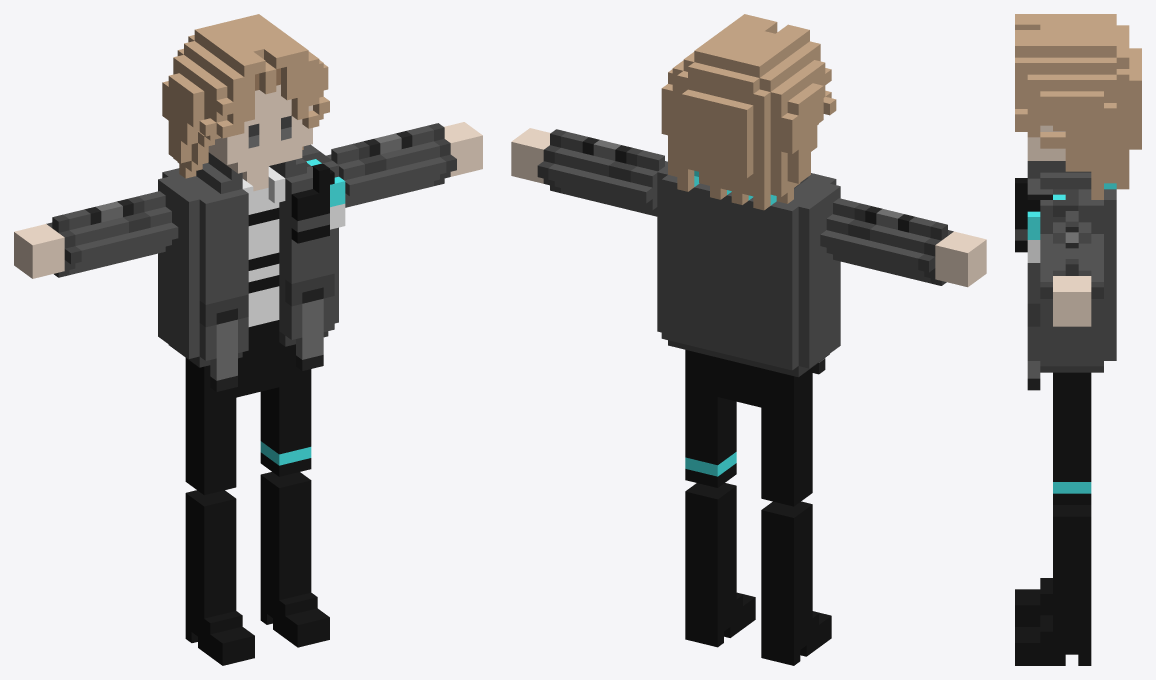
Rendered from character modeling.obj.
3 renders of one model, left to right at view 1: azimuth 30°, elevation 25°; view 2: azimuth 150°, elevation 25°; view 3: azimuth 270°, elevation 25°, orthographic. The views are drawn at different scales.
Bounding box in the file's own units: 4.2 × 5.3 × 1.
Materials: 1 (1 with a texture image).
